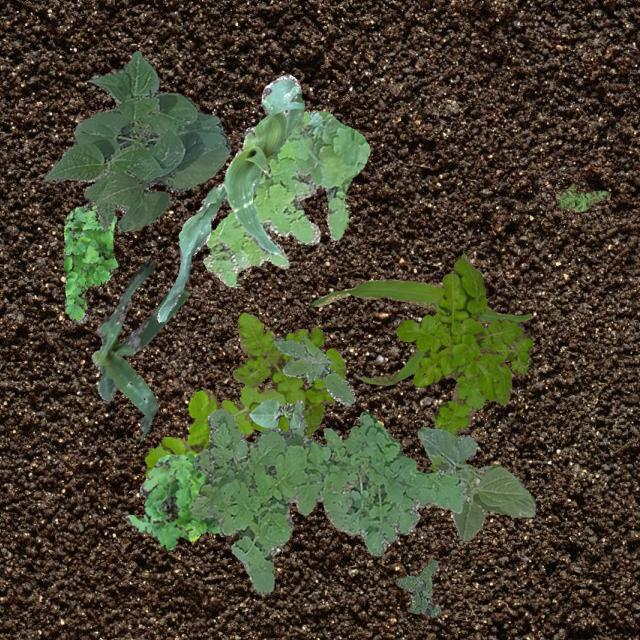crop: (156, 74, 304, 320), (42, 49, 230, 230), (312, 252, 530, 384), (90, 258, 190, 436), (416, 426, 534, 540), (248, 398, 304, 428)
weed: (188, 408, 464, 594), (202, 110, 370, 286), (394, 256, 522, 404), (430, 332, 532, 472), (232, 312, 346, 436), (144, 384, 286, 476), (125, 452, 226, 550), (62, 202, 116, 322), (272, 334, 354, 404), (394, 558, 439, 616), (556, 184, 610, 210)
